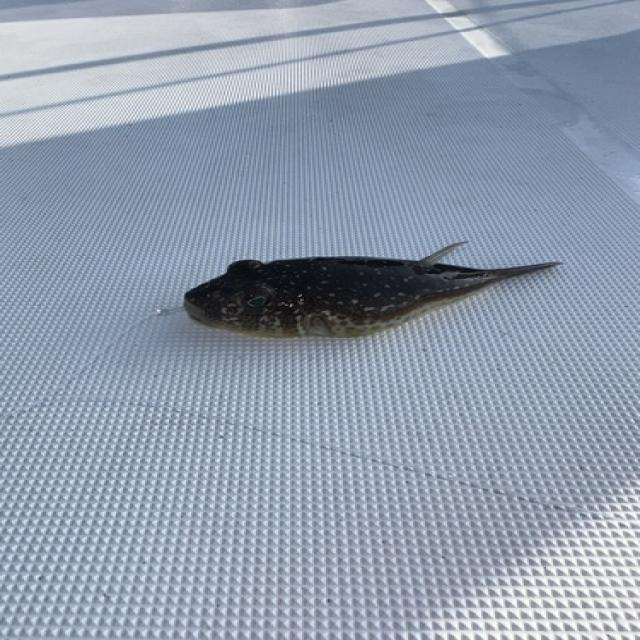Balik: (185, 244, 559, 336)
